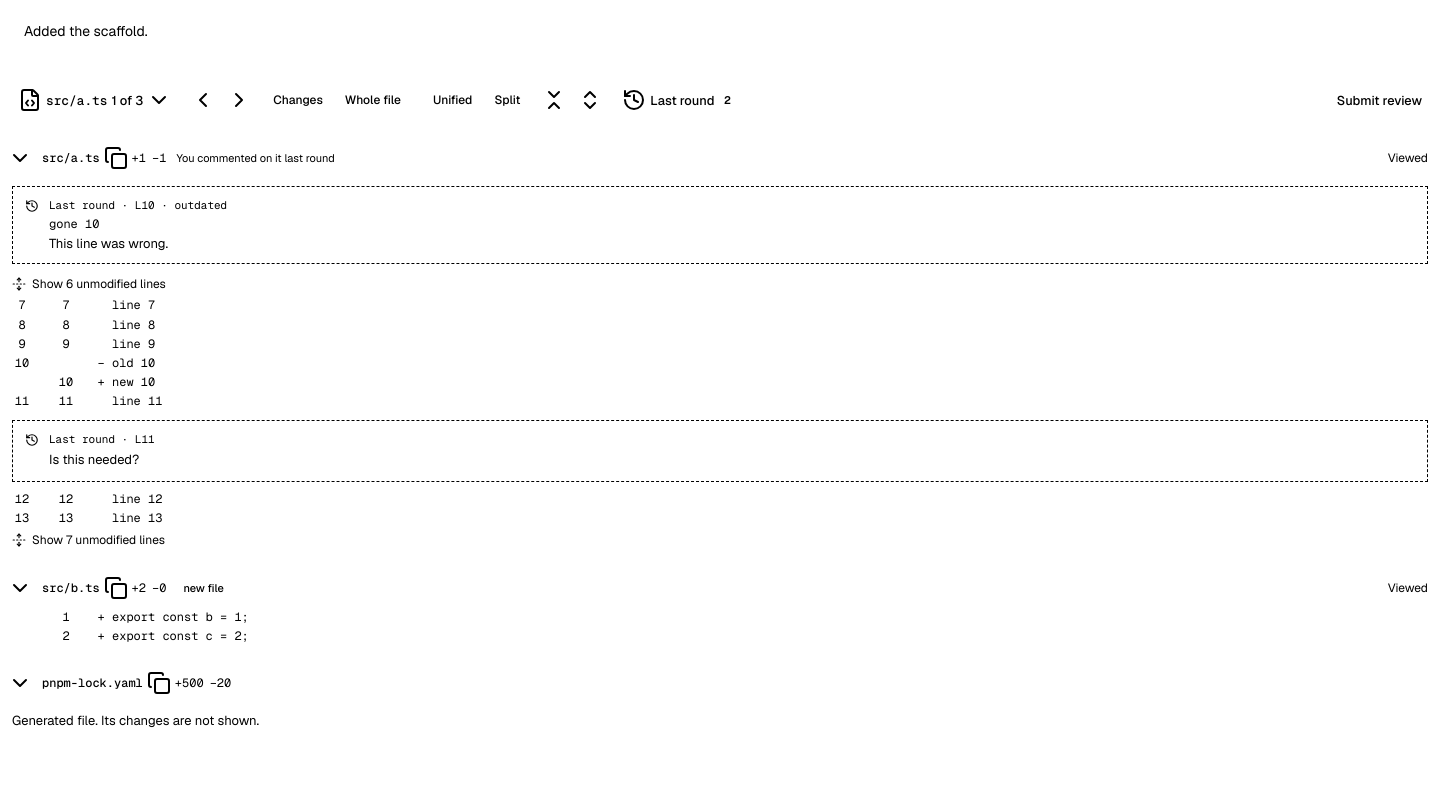
Test: last round's comments show next to the code they were about, or as outdated when it is gone
Expected: the text "You commented on it last round" is shown, [176,151,335,166]
Expected: the text "Is this needed?" is shown, [49,451,139,468]
Step 1. Click the button "Last round 2" → click(679, 100), box [612,86,746,114]
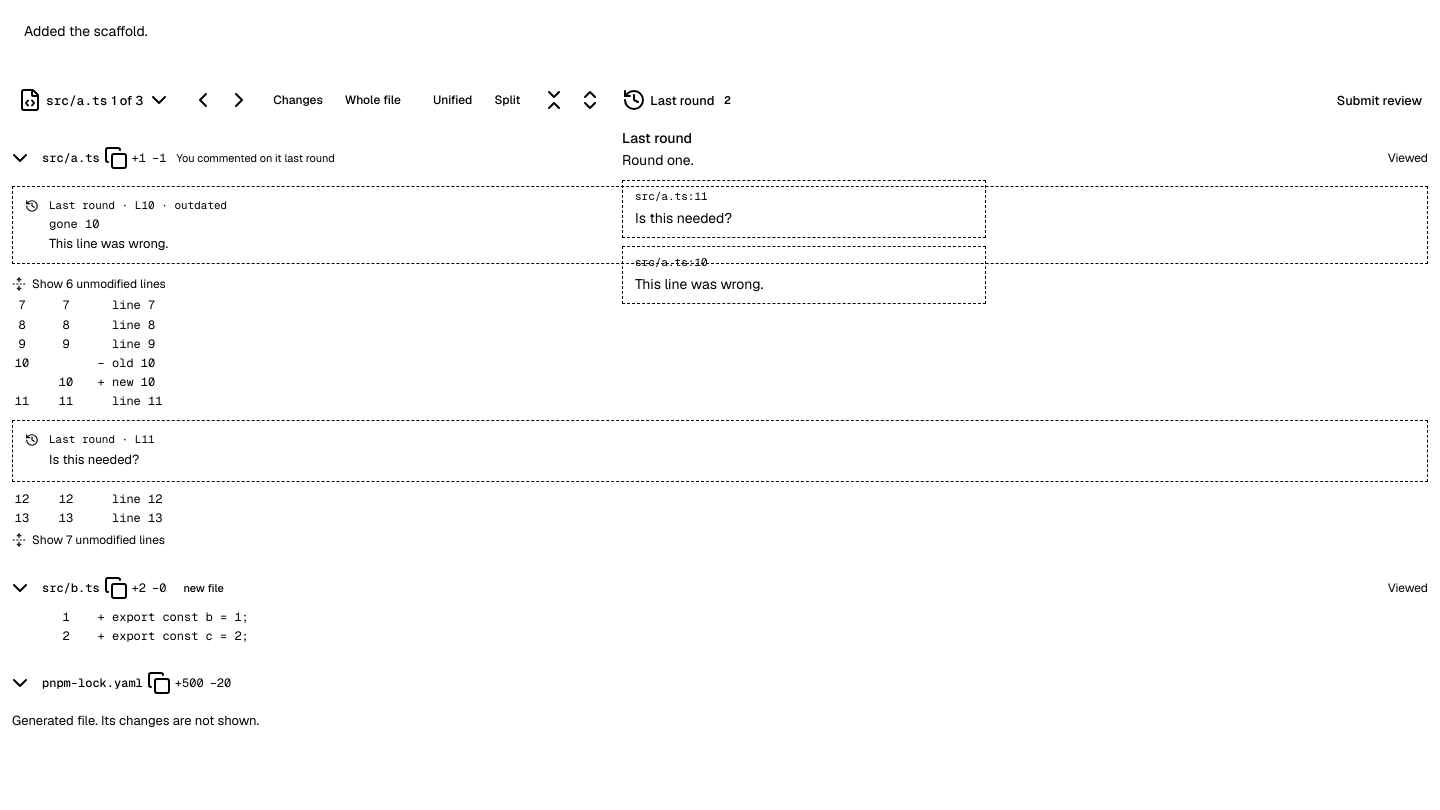
Now the text "Round one." is shown, box [622,151,694,169]
